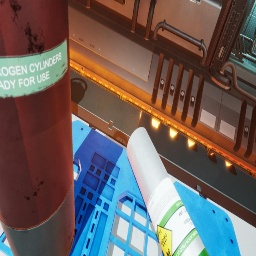0: (126, 127, 209, 256)
NitrogenTank ,: (0, 0, 76, 256)
